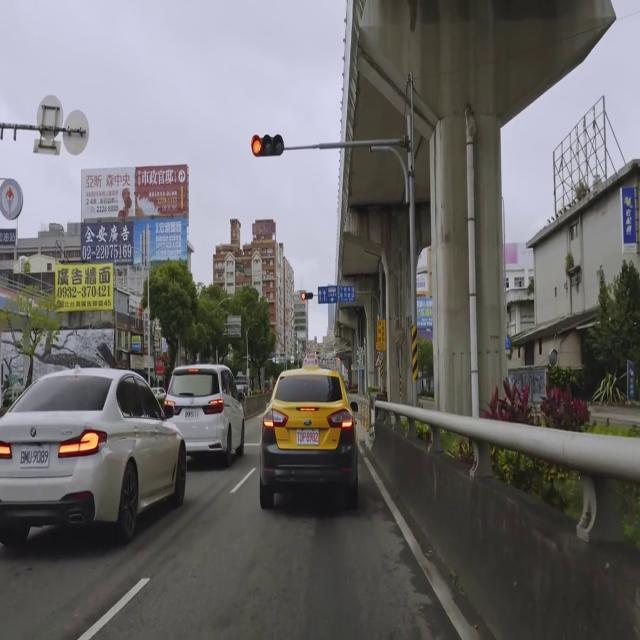red light: (249, 134, 285, 157), (300, 292, 314, 300)
